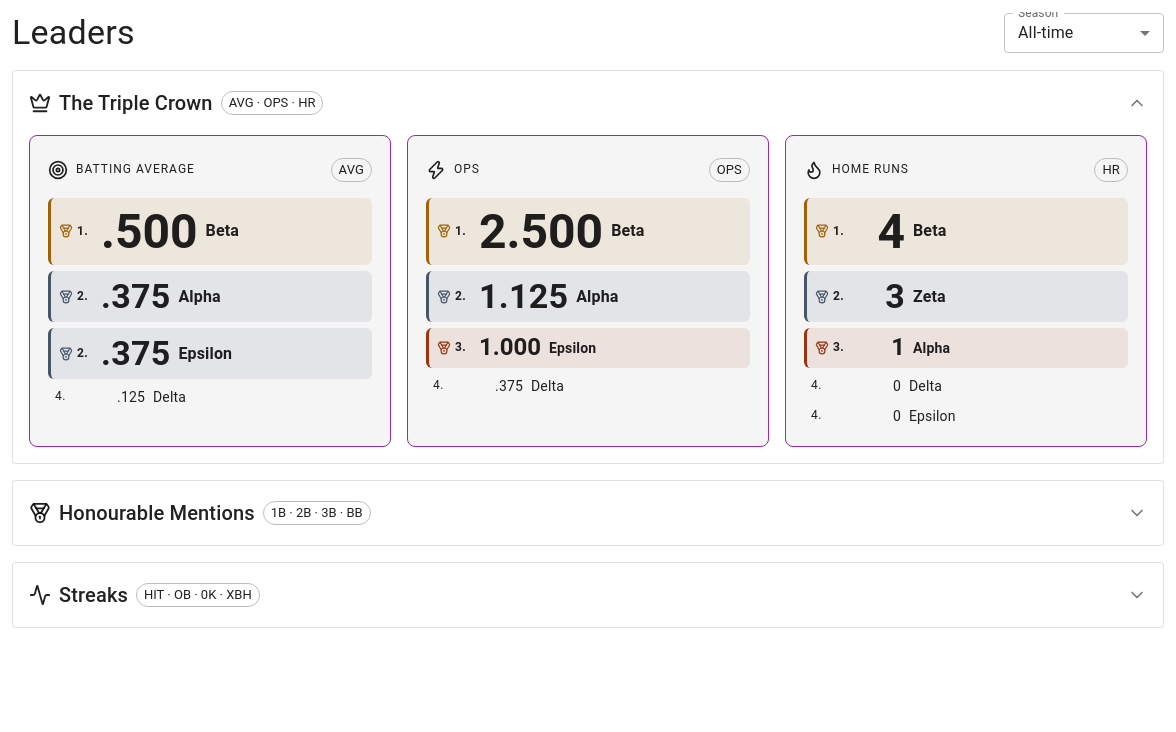
Test case: LeadersPage — mobile sections › opens one section at a time (accordion)
The width and height of the screenshot is (1176, 732).
Click the button "Streaks HIT · OB · 0K · XBH": (93,595) 13,563 -> 1163,627
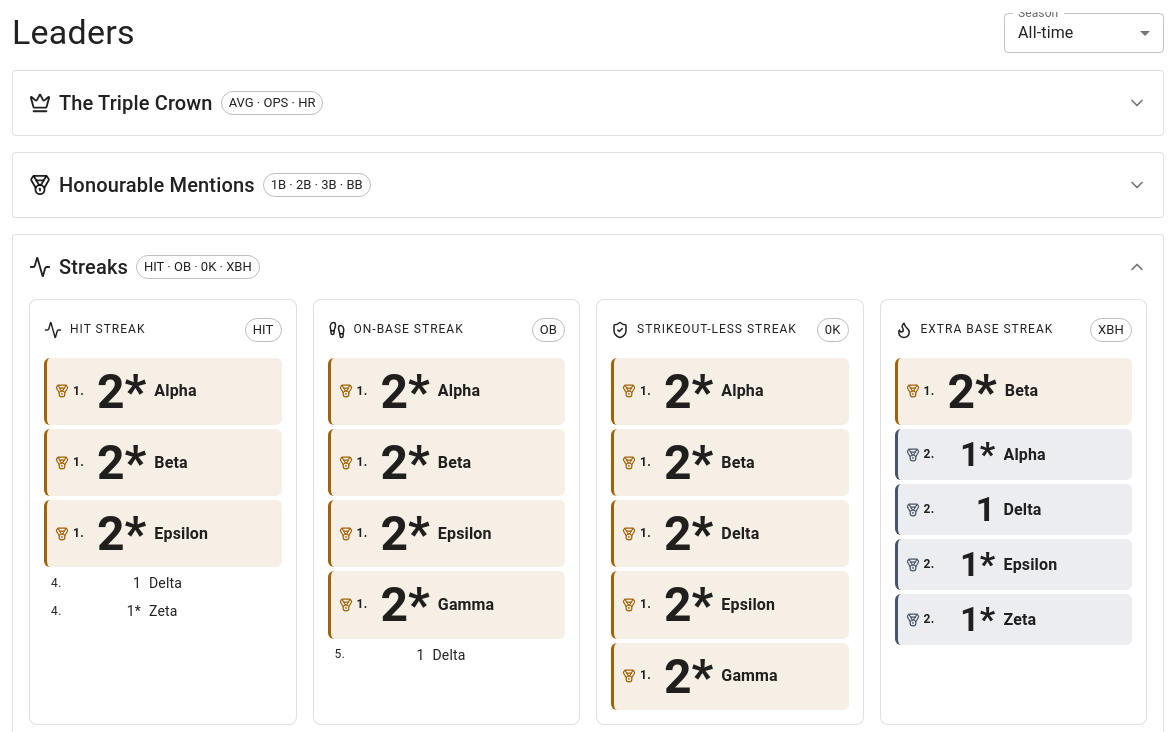
Now the button "Streaks HIT · OB · 0K · XBH" is expanded, box 13,235 -> 1163,299
Now the button "The Triple Crown AVG · OPS · HR" is collapsed, box 13,71 -> 1163,135
Click the button "Honourable Mentions 1B · 2B · 3B · BB": (157,185) 13,153 -> 1163,217
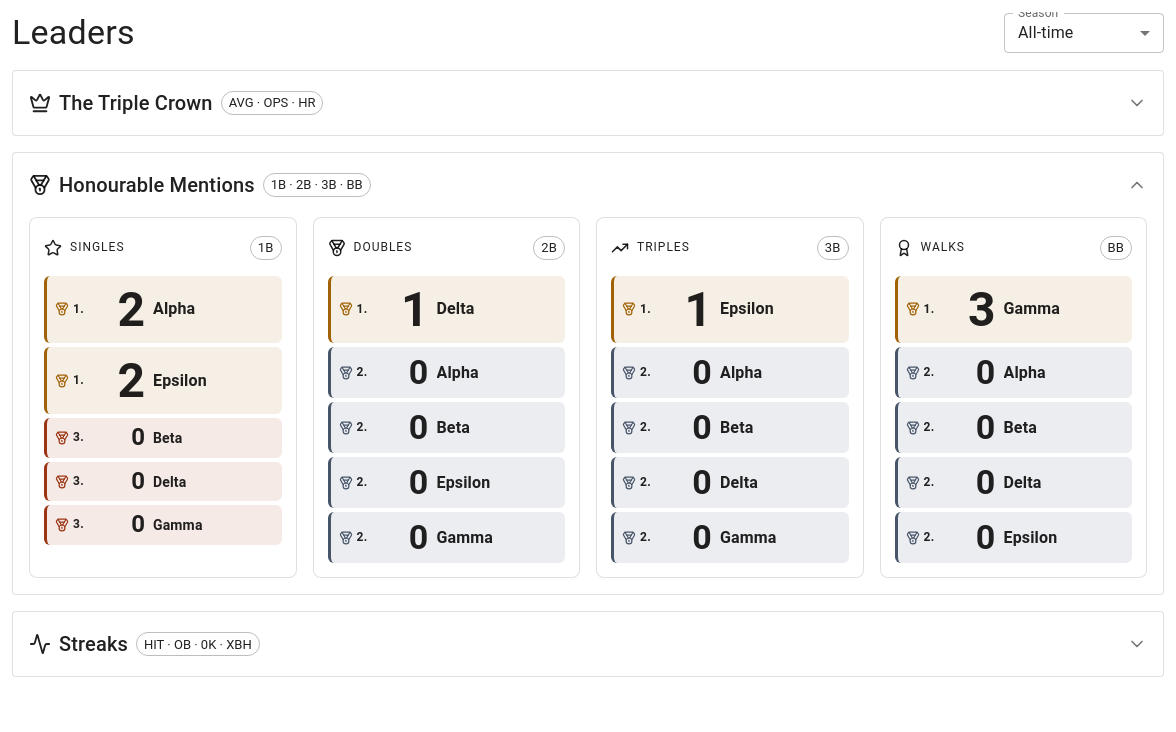
Now the button "Honourable Mentions 1B · 2B · 3B · BB" is expanded, box 13,153 -> 1163,217
Now the button "Streaks HIT · OB · 0K · XBH" is collapsed, box 13,612 -> 1163,676
